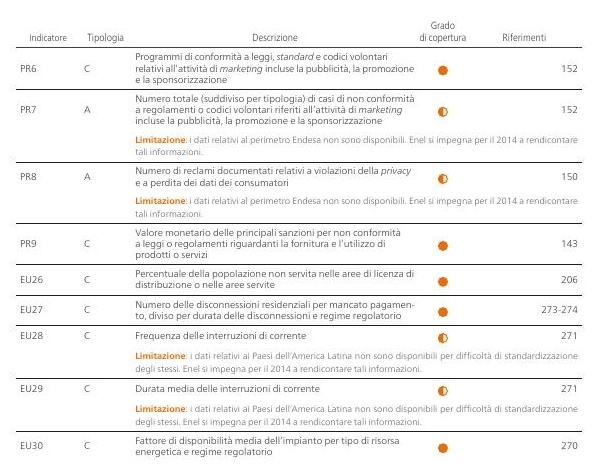table: (0, 0, 602, 470)
